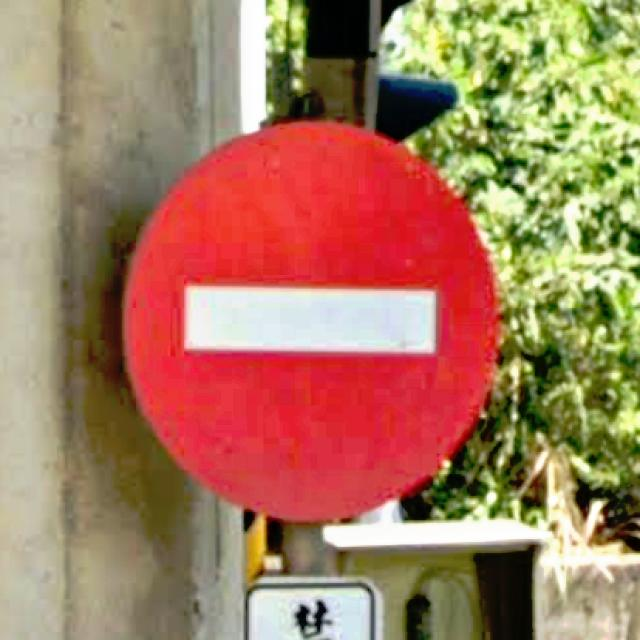noentry: (115, 115, 503, 523)
